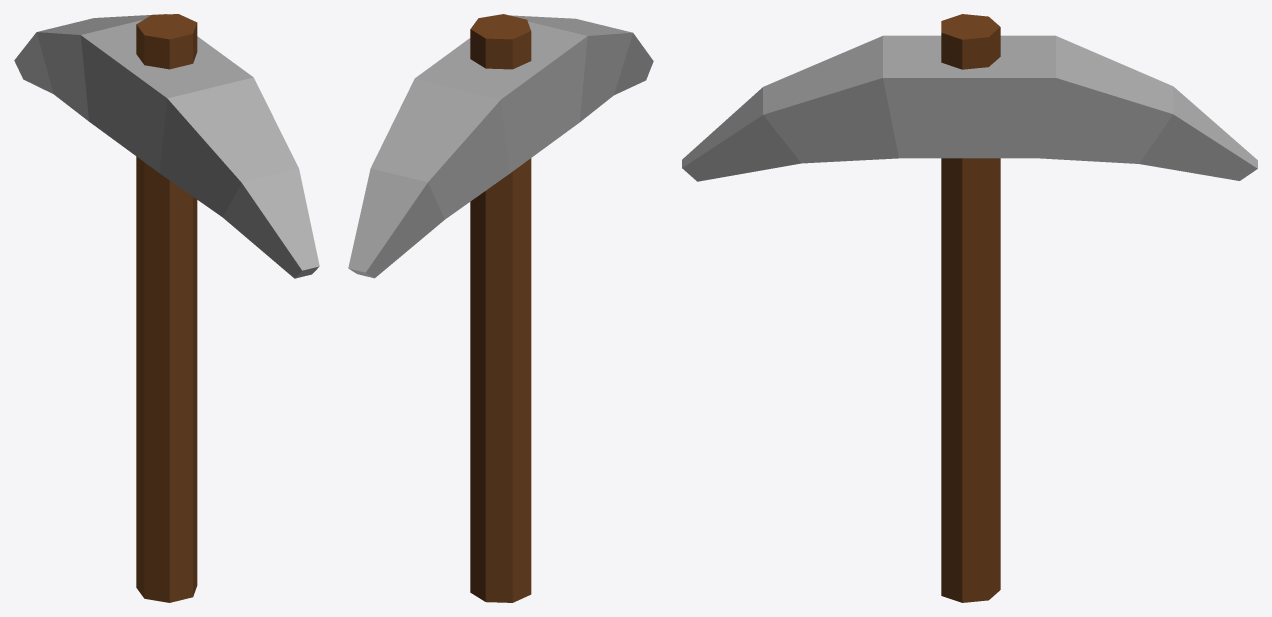
Rendered from stonePickaxe.fbx.
3 views of the same model, side by side, from view 1: azimuth 30°, elevation 25°; view 2: azimuth 150°, elevation 25°; view 3: azimuth 270°, elevation 25° (orthographic).
Visible parts, largest first — view 1: StonePickaxe; view 2: StonePickaxe; view 3: StonePickaxe.
Part boxes in pixels (x1,y1,x2,y2): StonePickaxe: (14, 14, 319, 602); StonePickaxe: (348, 14, 653, 602); StonePickaxe: (682, 14, 1257, 602).
Size of the model in its own units: 15.61 by 90.23 by 97.39.
